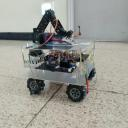cart: (20, 38, 96, 102)
